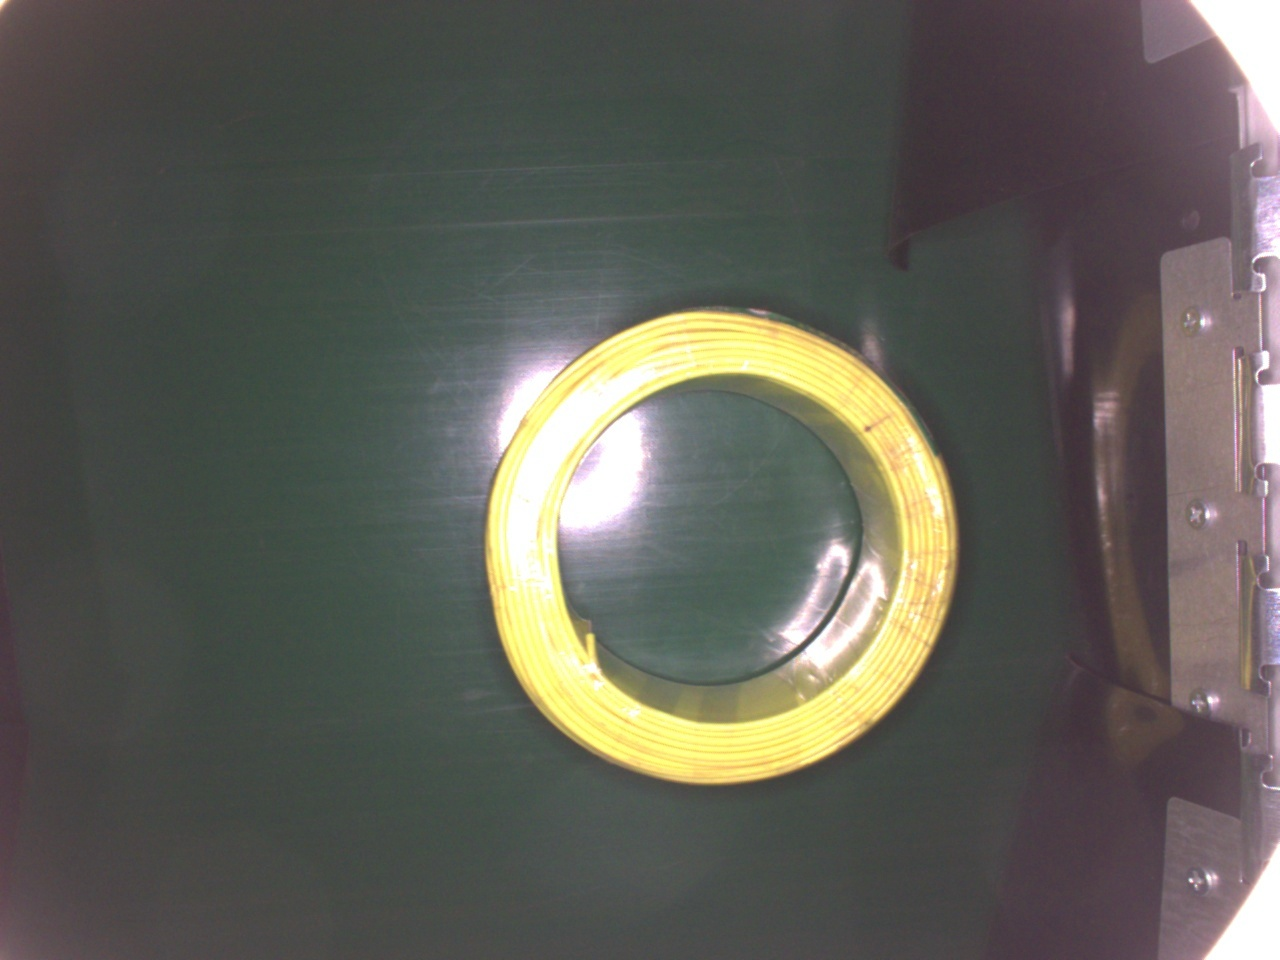yellow: (481, 304, 963, 790)
